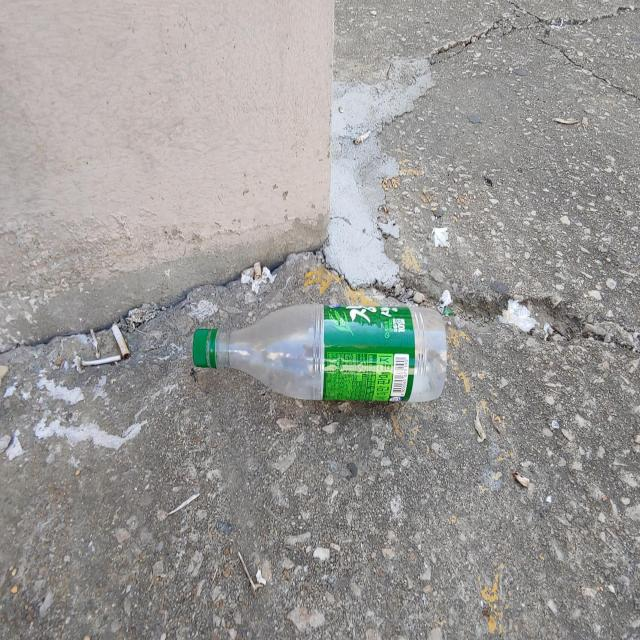plastic: (192, 304, 447, 402)
